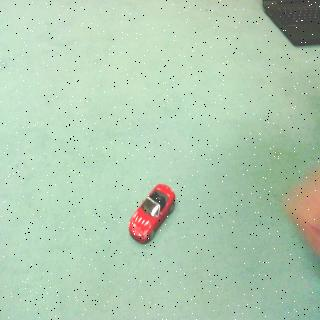car: (126, 173, 180, 252)
